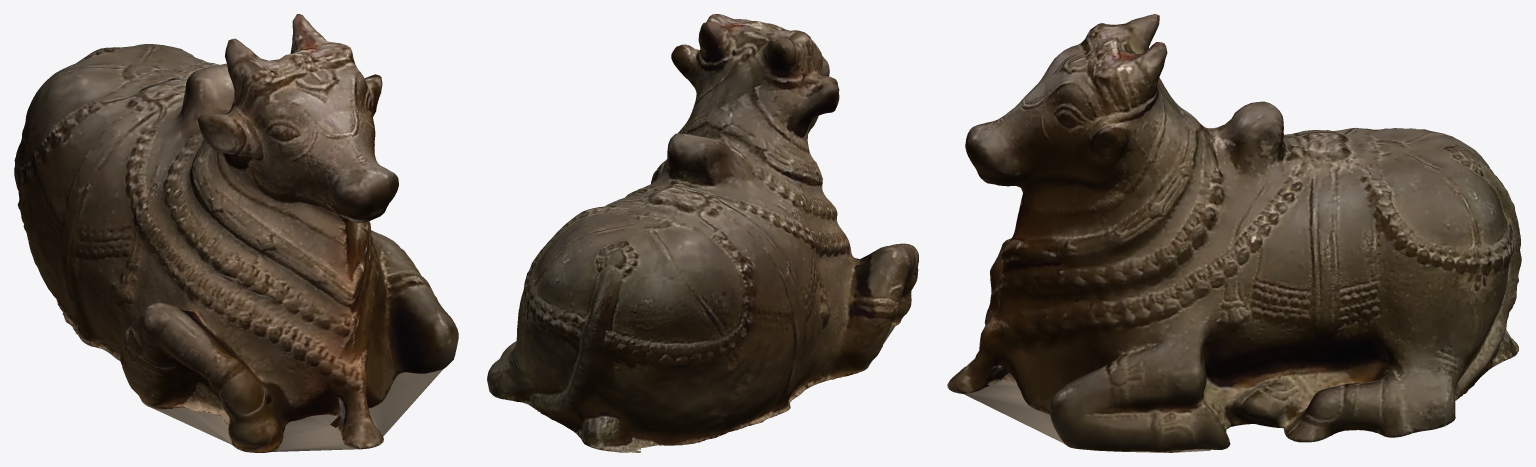
Rendered from bull-transformed.glb.
3 renders of one model, left to right at view 1: azimuth 30°, elevation 25°; view 2: azimuth 150°, elevation 25°; view 3: azimuth 270°, elevation 25°, orthographic. The views are drawn at different scales.
Visible parts, largest first — view 1: Object_2; view 2: Object_2; view 3: Object_2.
Boxes of the visible parts, x1,y1,x2,y2 form: Object_2: (14,14,458,452); Object_2: (487,14,918,452); Object_2: (947,14,1521,452).
Bounding box in the file's own units: 0.8763 × 0.9212 × 1.34.
Materials: 1 (1 with a texture image).
